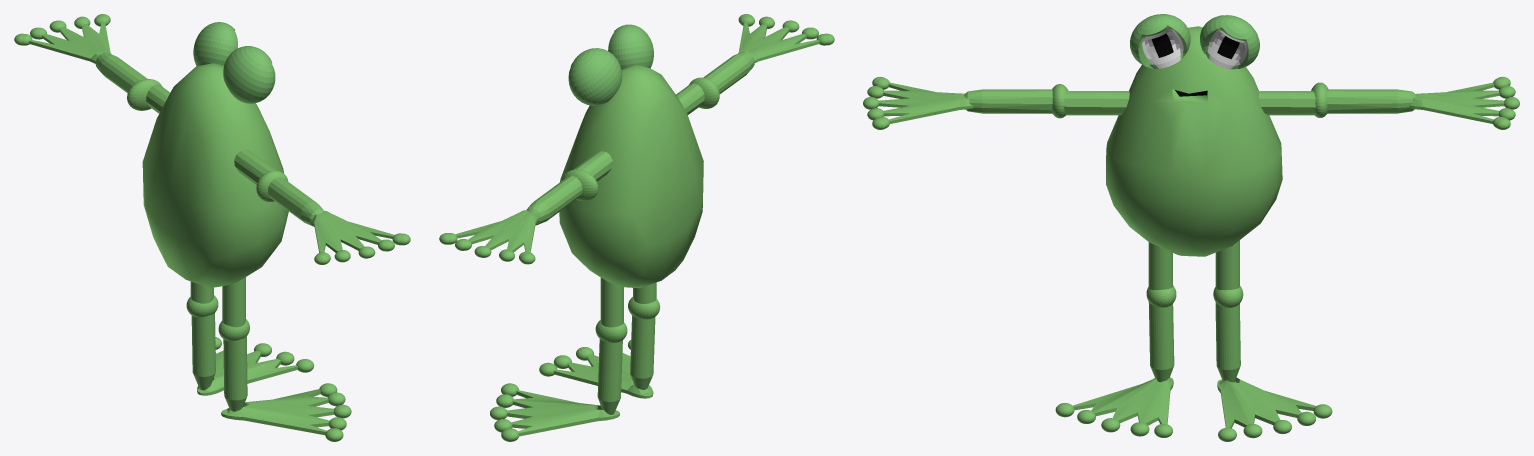
Rendered from forg2.fbx.
3 views of the same model, side by side, from view 1: azimuth 30°, elevation 25°; view 2: azimuth 150°, elevation 25°; view 3: azimuth 270°, elevation 25° (orthographic). The views are drawn at different scales.
Parts seen in each view (by area): view 1: Sphere.006, Cube.006, Cube.001, Cube.004, Sphere.002, Cube.003, Cylinder.005, Cylinder.008, Sphere.003, Cylinder.003, Cylinder.009, Cylinder.007 (+7 smaller); view 2: Sphere.006, Cube.003, Cube.004, Cube.001, Sphere.003, Cube.006, Cylinder.005, Cylinder.008, Sphere.002, Cylinder.009, Cylinder.003, Cylinder.004 (+7 smaller); view 3: Sphere.006, Cube.003, Cube.006, Cube.004, Cube.001, Sphere.002, Sphere.003, Cylinder.009, Cylinder.003, Cylinder.005, Cylinder.008, Cylinder.002 (+3 smaller).
Boxes of the visible parts, box(x1,y1,x2,y2) form: Sphere.006: box(142, 63, 288, 287); Cube.006: box(221, 383, 351, 441); Cube.001: box(312, 210, 410, 264); Cube.004: box(14, 14, 110, 63); Sphere.002: box(223, 46, 275, 103); Cube.003: box(197, 337, 314, 395); Cylinder.005: box(191, 313, 215, 390); Cylinder.008: box(223, 336, 247, 411); Sphere.003: box(193, 22, 237, 66); Cylinder.003: box(268, 177, 323, 226); Cylinder.009: box(95, 52, 147, 93); Cylinder.007: box(222, 277, 245, 327); Sphere.006: box(559, 64, 703, 288); Cube.003: box(490, 383, 619, 441); Cube.004: box(439, 210, 537, 264); Cube.001: box(738, 14, 834, 62); Sphere.003: box(568, 48, 622, 105); Cube.006: box(539, 340, 653, 398); Cylinder.005: box(597, 339, 622, 414); Cylinder.008: box(630, 315, 655, 389); Sphere.002: box(608, 24, 653, 69); Cylinder.009: box(526, 175, 582, 225); Cylinder.003: box(703, 51, 754, 93); Cylinder.004: box(600, 277, 623, 327); Sphere.006: box(1106, 26, 1282, 256); Cube.003: box(1217, 377, 1332, 441); Cube.006: box(1055, 377, 1173, 437); Cube.004: box(1409, 76, 1519, 129); Cube.001: box(863, 76, 973, 129); Sphere.002: box(1130, 14, 1190, 68); Sphere.003: box(1200, 15, 1259, 69); Cylinder.009: box(1327, 89, 1415, 113); Cylinder.003: box(964, 89, 1052, 113); Cylinder.005: box(1215, 302, 1240, 382); Cylinder.008: box(1148, 302, 1174, 382); Cylinder.002: box(1063, 91, 1129, 115).
Bounding box in the file's own units: 101 × 215 × 335.
